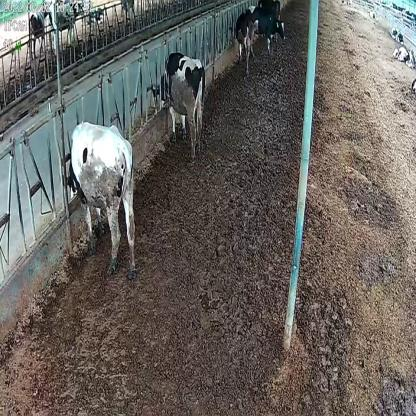cow: (60, 120, 137, 280), (152, 52, 207, 160), (245, 8, 286, 60), (235, 12, 256, 80)
